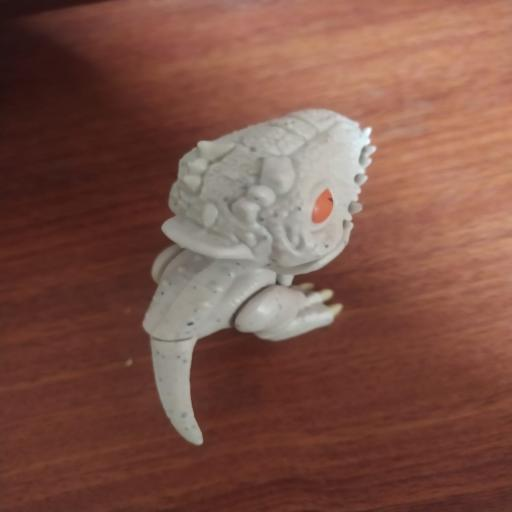Dinosaurio: (133, 99, 389, 453)
